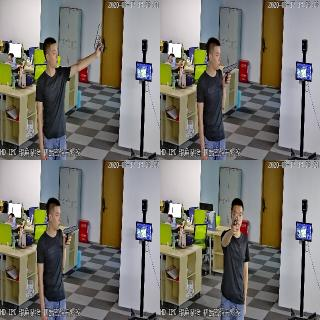gun: (91, 20, 105, 54), (219, 60, 237, 82), (61, 224, 79, 246), (231, 212, 238, 232)
